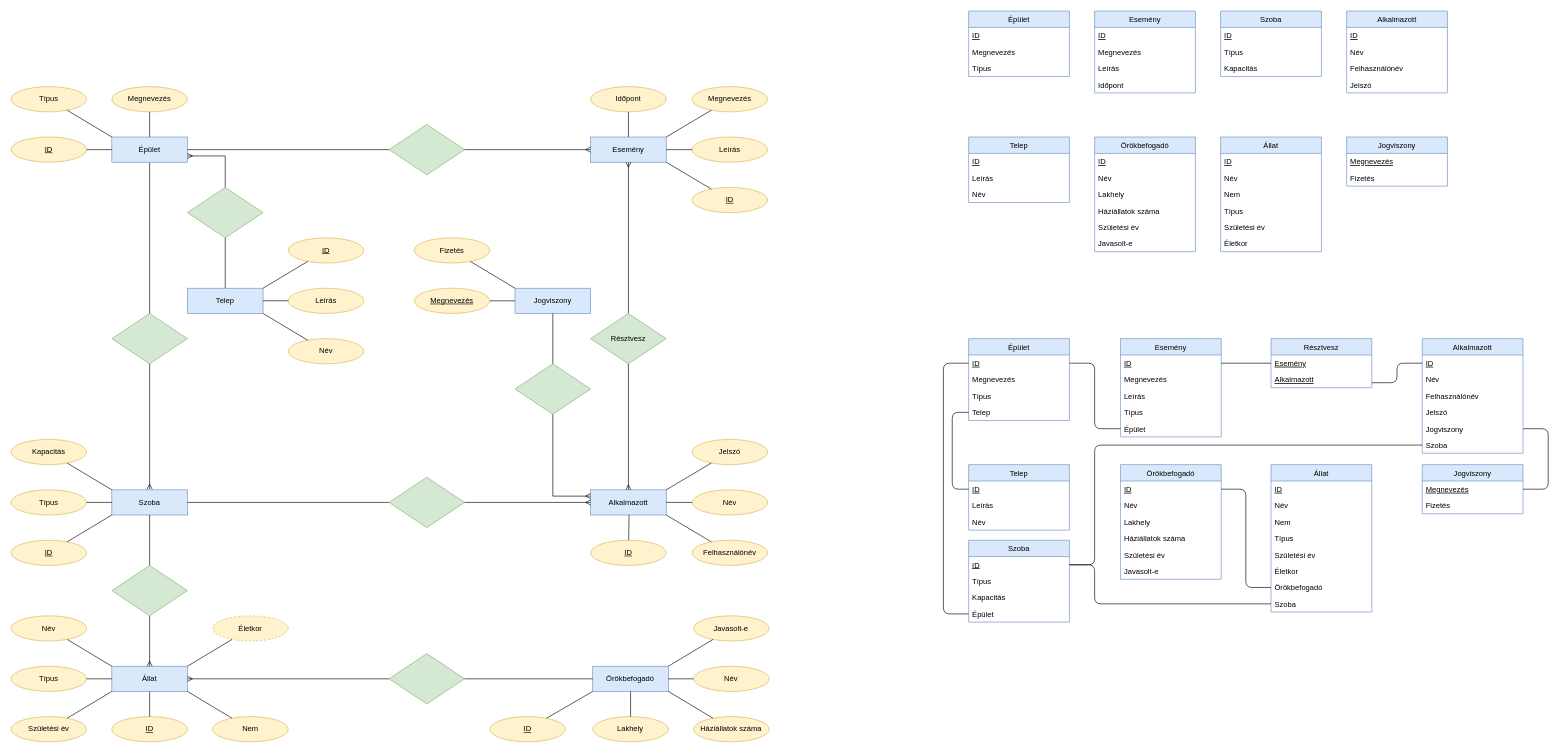
Image size: 1560x753. Some labels were removed from this diagram. The centre of each missing label's shape, as x and y in pixels:
Dolgozik: (426,502)
Helyezkedik: (225,212)
Lakik: (149,590)
Rendelkezik: (552,388)
Tartalmaz: (149,338)
Történik: (426,149)
örökbefogad: (426,678)
